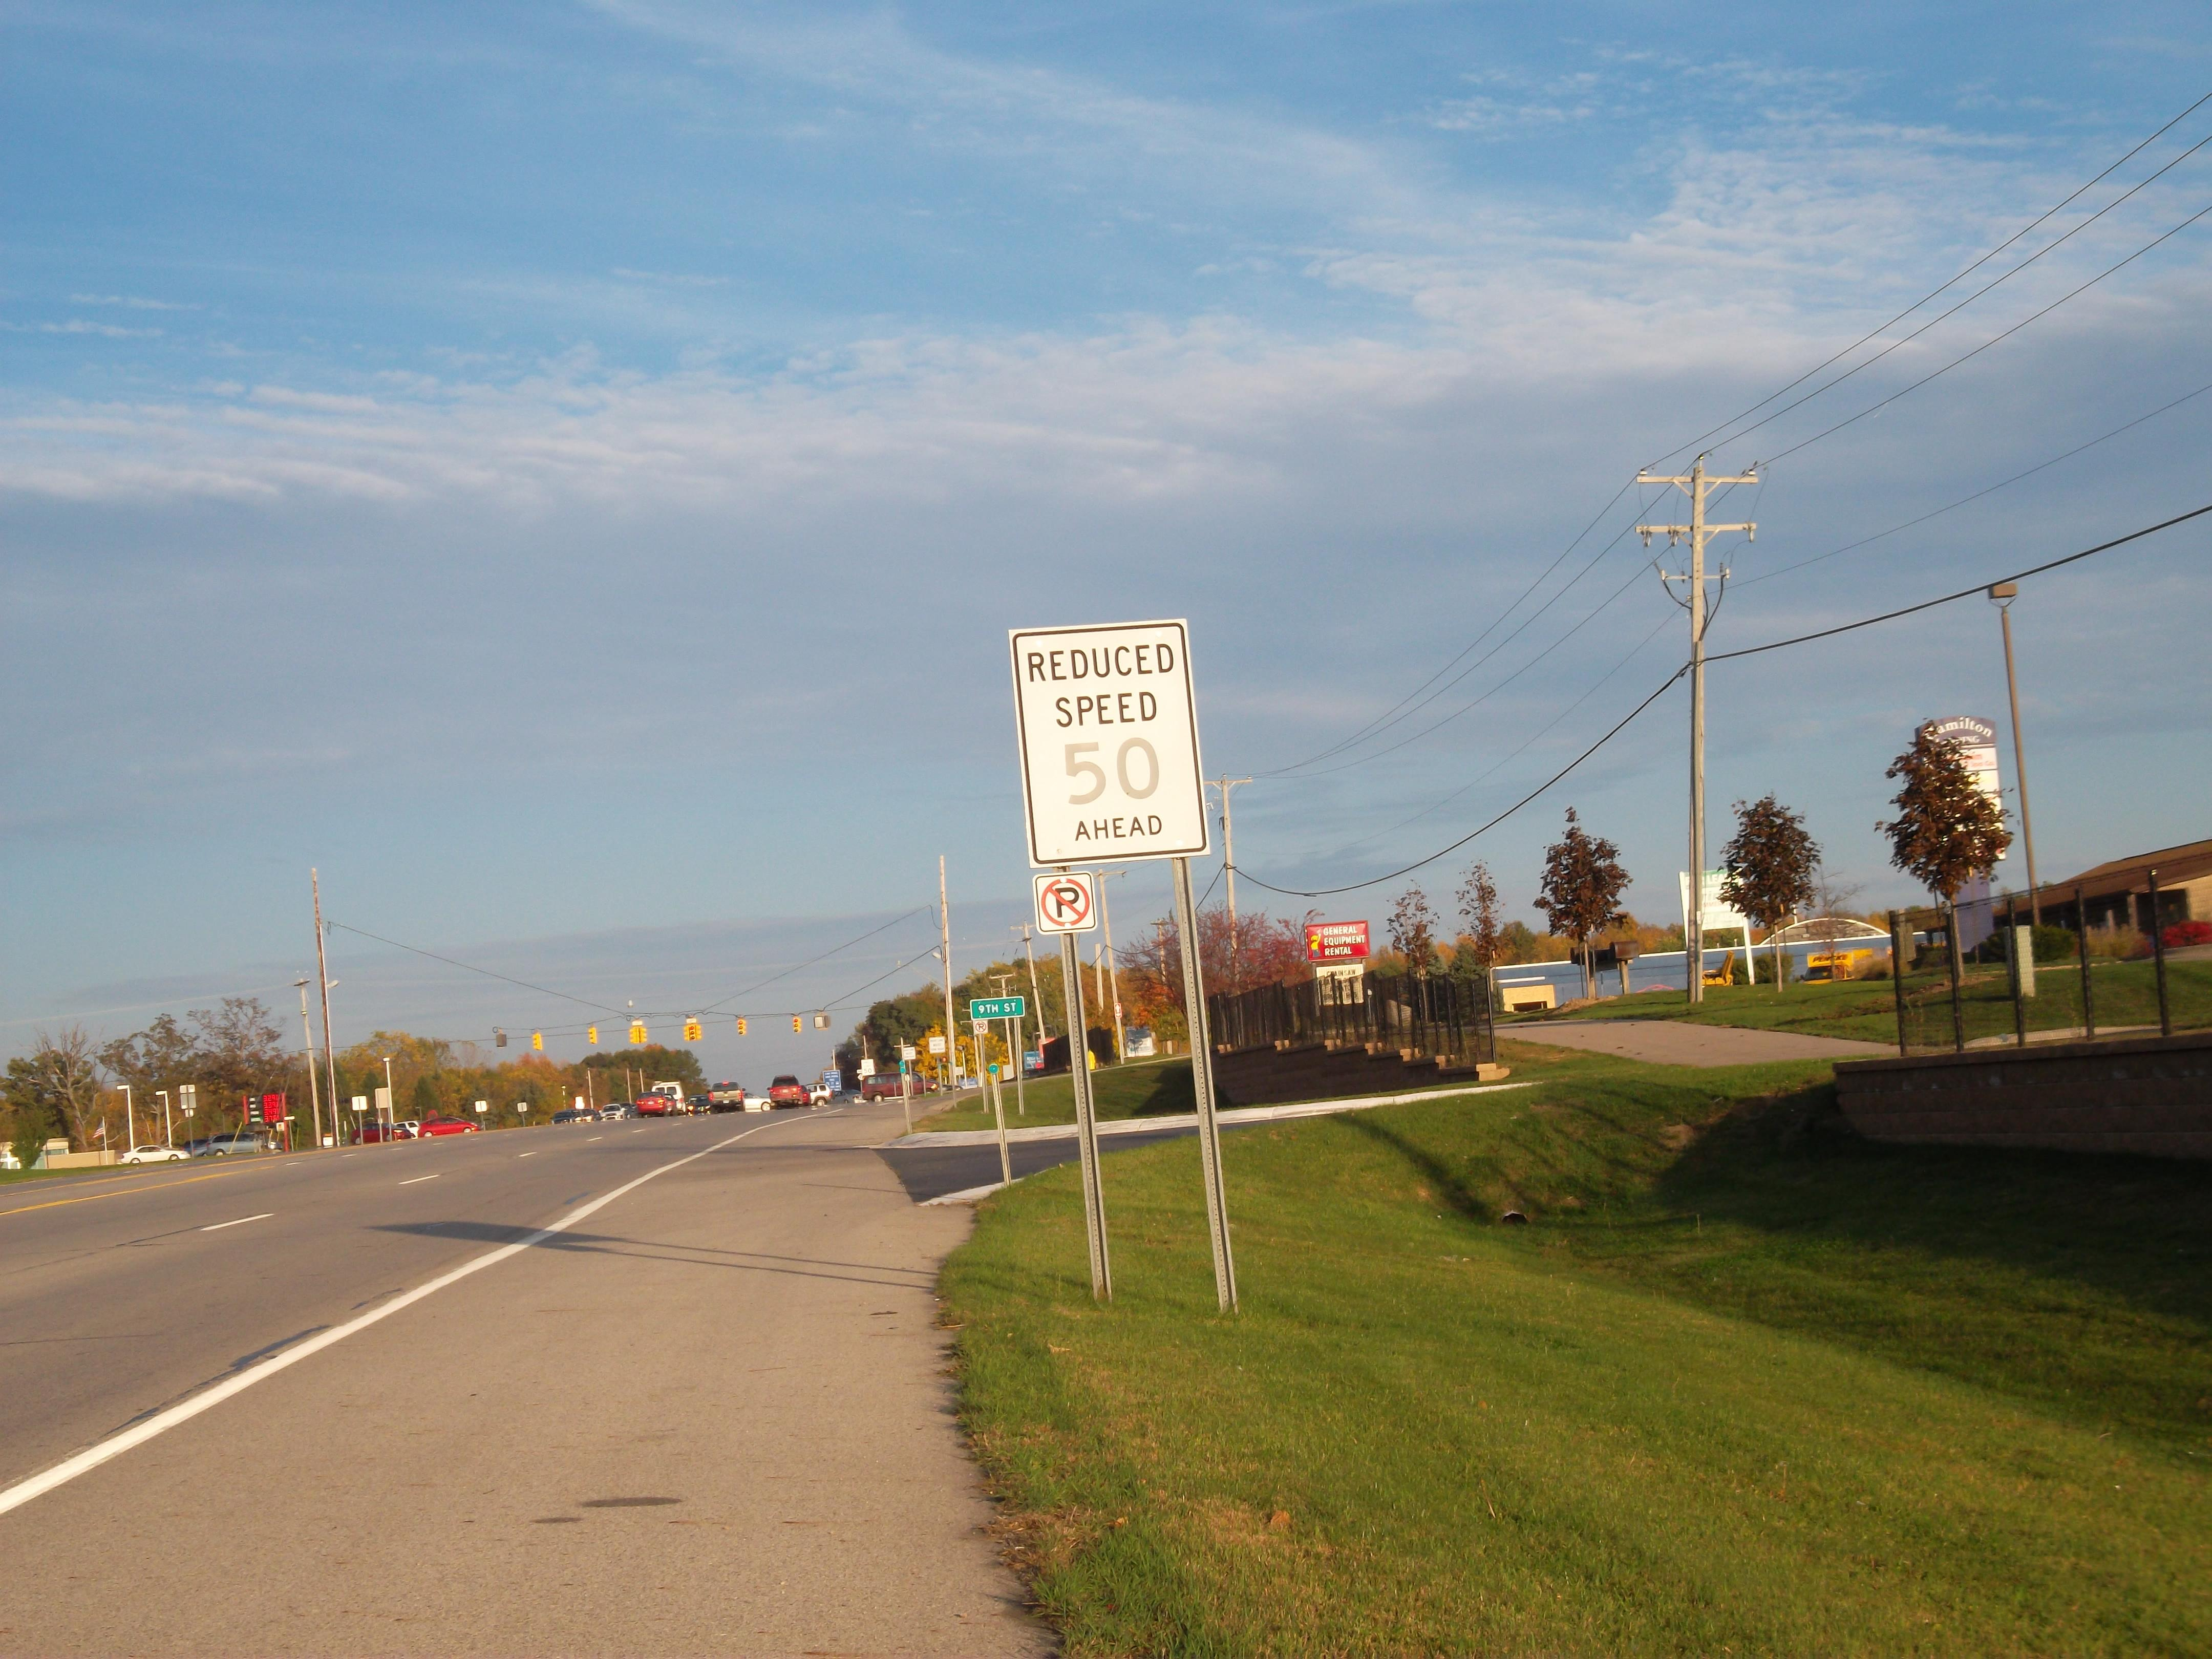regulatory: (1003, 612, 1214, 877), (1029, 870, 1101, 939), (860, 1060, 876, 1077)
